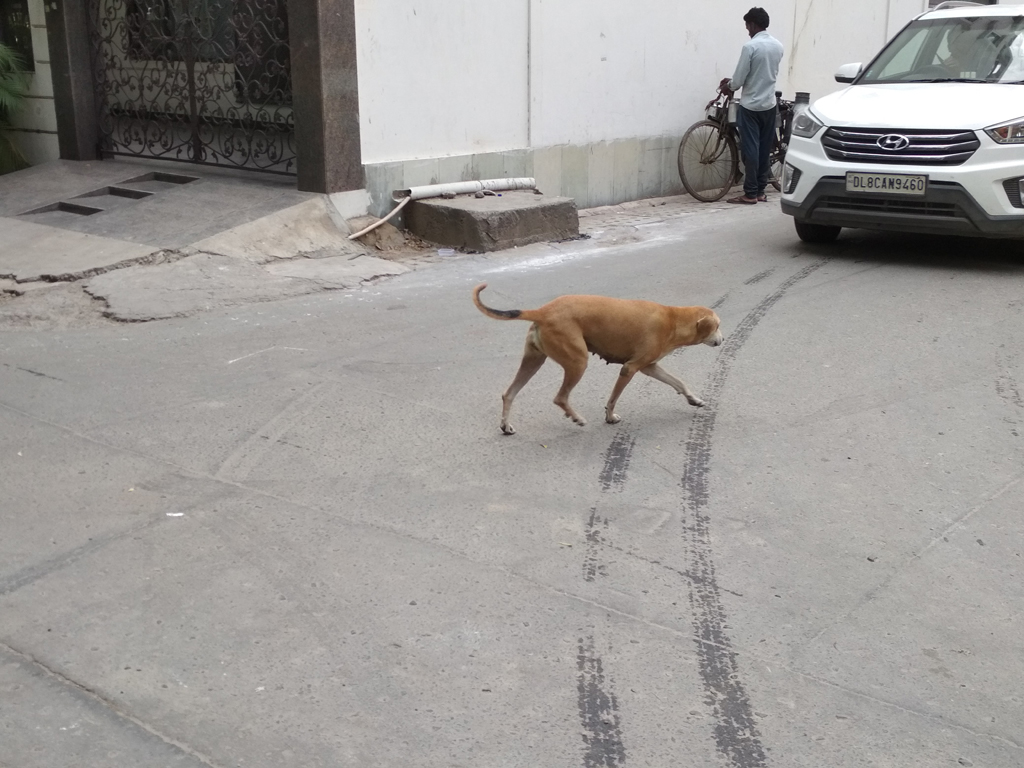dog: (473, 282, 725, 434)
